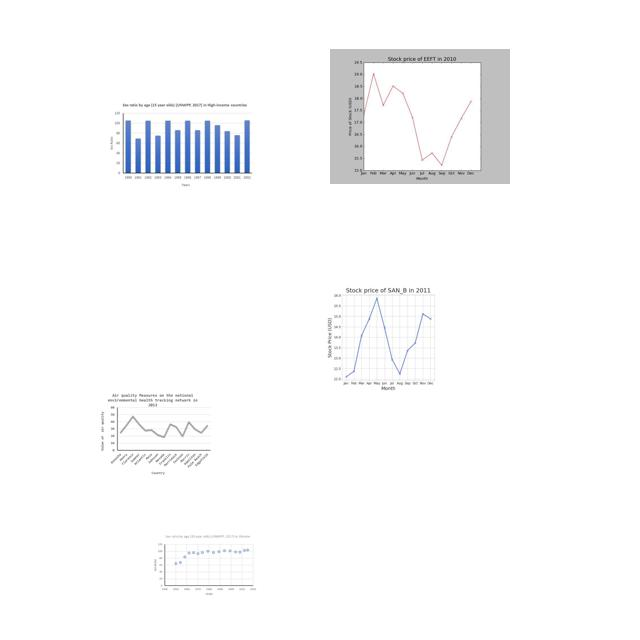Graph: (330, 49, 510, 184), (312, 281, 461, 393), (105, 100, 259, 190), (94, 392, 212, 477), (151, 533, 258, 596)
